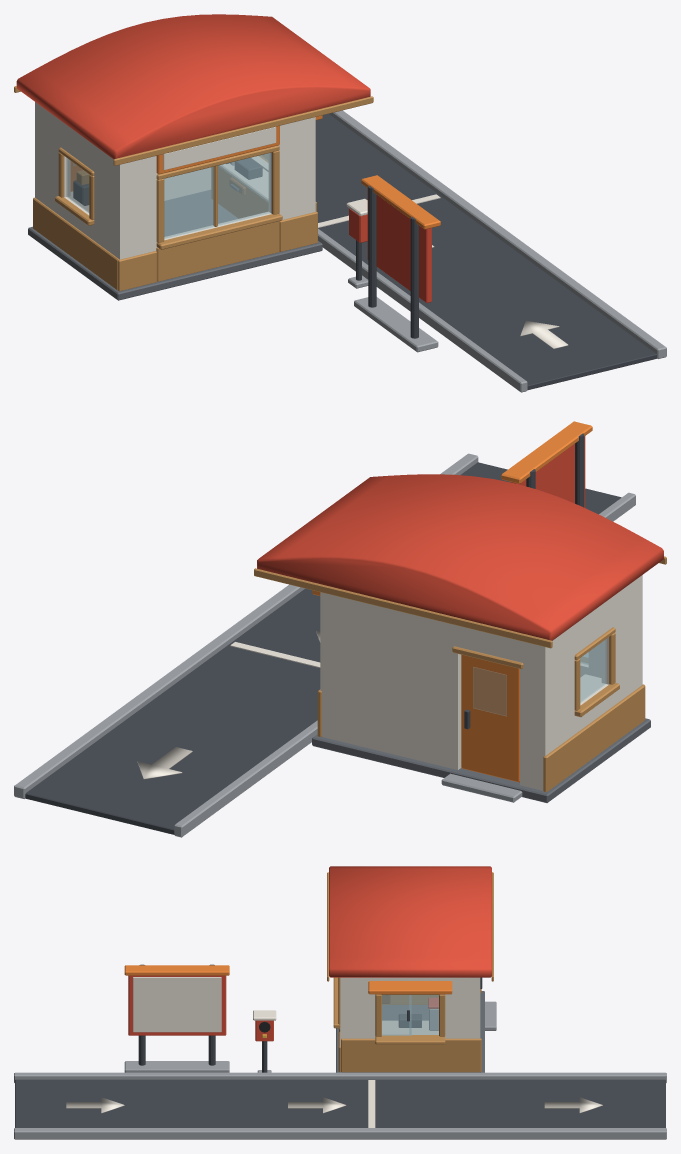
File: coffee-drive-thru-kiosk.glb
3 renders of one model, top to bottom at view 1: azimuth 30°, elevation 25°; view 2: azimuth 150°, elevation 25°; view 3: azimuth 270°, elevation 25°, orthographic. The views are drawn at different scales.
Parts seen in each view (by area): view 1: Roof, Lane_Asphalt, Wall_Front, FrontWin_Glass, Wall_West, Kiosk_Base, Curb_Outer, Band_Front_Mid, Menu_Frame, Curb_Inner, Band_West, Roof_Fascia_Front (+16 smaller); view 2: Roof, Lane_Asphalt, Wall_Back, Wall_West, Door, Curb_Outer, Band_West, Kiosk_Base, Curb_Inner, Roof_Fascia_Back, Menu_Cap, Menu_Frame (+6 smaller); view 3: Lane_Asphalt, Roof, Curb_Outer, Curb_Inner, Menu_Panel_Blank, Band_Service, Wall_Service, Kiosk_Base, Menu_Footing, ServiceWindow, Menu_Frame, ServiceWin_FixedPane (+9 smaller).
Boxes of the visible parts, bbox=[...] form: Roof: bbox=[16, 14, 370, 159]; Lane_Asphalt: bbox=[315, 114, 656, 390]; Wall_Front: bbox=[115, 117, 315, 259]; FrontWin_Glass: bbox=[164, 153, 270, 238]; Wall_West: bbox=[39, 105, 115, 256]; Kiosk_Base: bbox=[28, 190, 322, 300]; Curb_Outer: bbox=[329, 110, 666, 358]; Band_Front_Mid: bbox=[156, 221, 279, 281]; Menu_Frame: bbox=[367, 188, 431, 302]; Curb_Inner: bbox=[318, 228, 527, 392]; Band_West: bbox=[33, 197, 119, 290]; Roof_Fascia_Front: bbox=[113, 96, 373, 165]; Roof: bbox=[257, 474, 663, 640]; Lane_Asphalt: bbox=[25, 462, 621, 834]; Wall_Back: bbox=[320, 592, 549, 790]; Wall_West: bbox=[550, 578, 637, 752]; Door: bbox=[461, 654, 519, 782]; Curb_Outer: bbox=[14, 453, 478, 798]; Band_West: bbox=[543, 685, 644, 791]; Kiosk_Base: bbox=[312, 718, 650, 802]; Curb_Inner: bbox=[174, 492, 635, 837]; Roof_Fascia_Back: bbox=[254, 568, 552, 648]; Menu_Cap: bbox=[501, 421, 592, 483]; Menu_Frame: bbox=[511, 436, 585, 507]; Lane_Asphalt: bbox=[15, 1079, 665, 1127]; Roof: bbox=[329, 866, 491, 977]; Curb_Outer: bbox=[14, 1128, 666, 1139]; Curb_Inner: bbox=[14, 1072, 666, 1082]; Menu_Panel_Blank: bbox=[133, 977, 221, 1032]; Band_Service: bbox=[341, 1038, 481, 1072]; Wall_Service: bbox=[347, 977, 473, 1038]; Kiosk_Base: bbox=[336, 991, 484, 1072]; Menu_Footing: bbox=[124, 1061, 229, 1072]; ServiceWindow: bbox=[382, 995, 411, 1035]; Menu_Frame: bbox=[128, 975, 226, 1035]; ServiceWin_FixedPane: bbox=[409, 995, 438, 1034].
Bounding box in the file's own units: 29.7 × 14.1 × 56.
